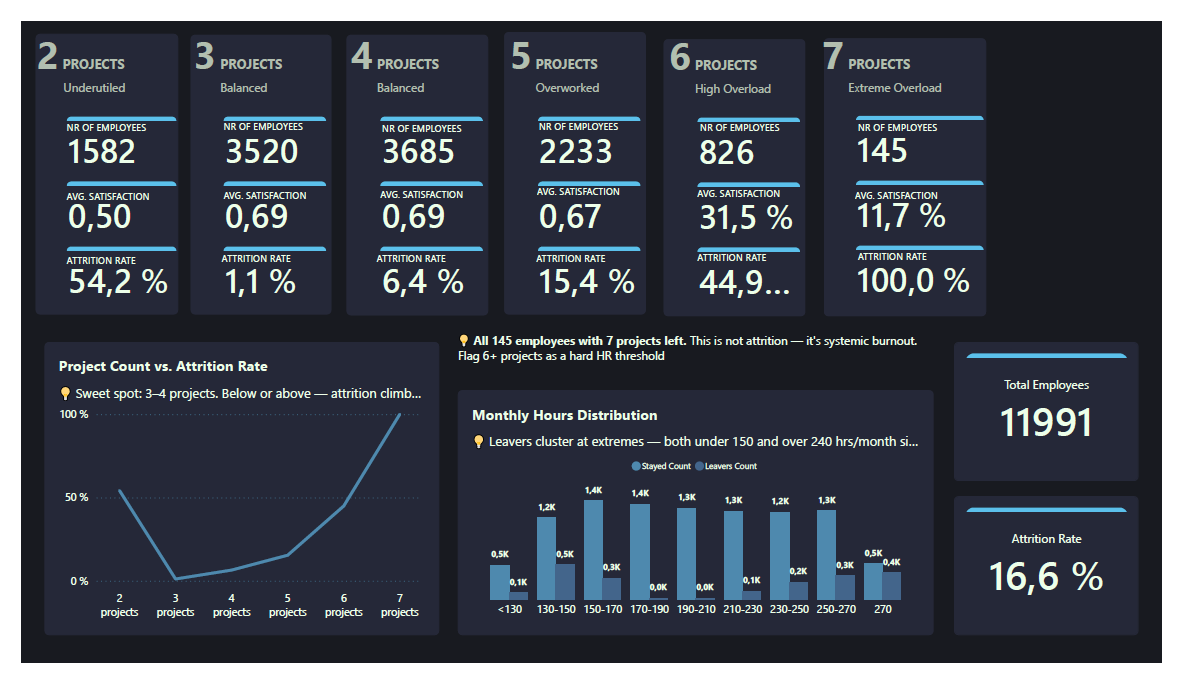

Layout of this report page (visuals, bound fields, positions):
{"tool":"powerbi","page":{"name":"Workload Analysis ","canvas":[1280,720],"ordinal":0},"visuals":[{"type":"group","id":"g1","title":"Group 3","box":[15.5,8.1,1066.7,323.5],"z":0},{"type":"shape","box":[542,12.1,158.8,317.1],"z":0,"group":"g5"},{"type":"shape","box":[15.5,14.5,160,315],"z":0,"group":"g2"},{"type":"shape","box":[189.1,15.8,157.6,313.5],"z":0,"group":"g3"},{"type":"shape","box":[364.9,15.8,158.8,314.7],"z":0,"group":"g4"},{"type":"shape","box":[900.4,19.3,181.8,312.4],"z":0,"group":"g7"},{"type":"shape","box":[720.1,19.5,158.8,311.8],"z":0,"group":"g6"},{"type":"cardVisual","title":"Nr of Employees","fields":{"Data":["salifort_complete_report.Employees 7 Projects Display","salifort_complete_report.Avg Satisfaction 7 Projects","salifort_complete_report.Turnover 7 Projects"]},"box":[935,104.9,145.8,222.5],"z":1000,"group":"g7"},{"type":"cardVisual","title":"Nr of Employees","fields":{"Data":["salifort_complete_report.Employees 5 Projects Display","salifort_complete_report.Avg Satisfaction 5 Projects","salifort_complete_report.Turnover 5 Projects"]},"box":[578.9,105.6,117.5,221.9],"z":1000,"group":"g5"},{"type":"cardVisual","title":"Nr of Employees","fields":{"Data":["salifort_complete_report.Employees 3 Projects","salifort_complete_report.Avg Satisfaction 3 Projects","salifort_complete_report.Turnover 3 Projects"]},"box":[224.7,106,117.5,221.9],"z":1000,"group":"g3"},{"type":"cardVisual","title":"Nr of Employees","fields":{"Data":["salifort_complete_report.Employees 6 Projects Display","salifort_complete_report.Avg Satisfaction 6 Projects","salifort_complete_report.Turnover 6 Projects"]},"box":[757.2,106.4,117.5,221.9],"z":1000,"group":"g6"},{"type":"cardVisual","title":"Nr of Employees","fields":{"Data":["salifort_complete_report.Employees 4 Projects Display","salifort_complete_report.Avg Satisfaction 4 Projects","salifort_complete_report.Turnover 4 Projects"]},"box":[401.6,106.7,117.5,221.9],"z":1000,"group":"g4"},{"type":"cardVisual","title":"Nr of Employees","fields":{"Data":["salifort_complete_report.Employees 2 Projects","salifort_complete_report.Avg Satisfaction 2 Projects","salifort_complete_report.Turnover 2 Projects"]},"box":[50,106.9,125,221],"z":1000,"group":"g2"},{"type":"lineChart","title":"Project Count vs. Attrition Rate","fields":{"Category":["salifort_complete_report.Project Label"],"Y":["salifort_complete_report.Attrition Rate"]},"box":[25.7,360,442.9,328.6],"z":1000},{"type":"group","id":"g2","title":"Group 1","box":[15.5,8.5,179.5,321],"z":2000,"group":"g1"},{"type":"textbox","box":[581.3,108.5,126.2,28.5],"z":2000,"group":"g5"},{"type":"textbox","box":[226.6,108.8,126,28.7],"z":2000,"group":"g3"},{"type":"textbox","box":[761.2,108.9,126.3,28.4],"z":2000,"group":"g6"},{"type":"textbox","box":[938.6,109.1,125.7,28.6],"z":2000,"group":"g7"},{"type":"textbox","box":[51,109.9,144,30],"z":2000,"group":"g2"},{"type":"textbox","box":[404.9,110.1,126,28.7],"z":2000,"group":"g4"},{"type":"textbox","box":[490,348.6,522.9,65.7],"z":2000},{"type":"group","id":"g3","title":"Group 2","box":[189.1,8.5,163.5,320.9],"z":3000,"group":"g1"},{"type":"textbox","box":[578.8,180.7,122.1,28.9],"z":3000,"group":"g5"},{"type":"textbox","box":[758,183.2,121.5,28.5],"z":3000,"group":"g6"},{"type":"textbox","box":[402.8,184.5,121.6,28.4],"z":3000,"group":"g4"},{"type":"textbox","box":[935.3,184.8,121.9,28.1],"z":3000,"group":"g7"},{"type":"textbox","box":[226.6,185.5,122,28.7],"z":3000,"group":"g3"},{"type":"textbox","box":[51,187.9,122,28],"z":3000,"group":"g2"},{"type":"clusteredColumnChart","title":"Monthly Hours Distribution","fields":{"Category":["salifort_complete_report.Hours Bucket"],"Y":["salifort_complete_report.Stayed Count","salifort_complete_report.Leavers Count"]},"box":[490,414.3,534.3,274.3],"z":3000},{"type":"group","id":"g4","title":"Group 2","box":[364.9,8.3,166,322.2],"z":4000,"group":"g1"},{"type":"textbox","box":[938.1,254.3,126.2,28.1],"z":4000,"group":"g7"},{"type":"textbox","box":[758,254.7,126.2,28.5],"z":4000,"group":"g6"},{"type":"textbox","box":[578.3,256.5,126.3,28.4],"z":4000,"group":"g5"},{"type":"textbox","box":[399.1,256.6,126.8,27.9],"z":4000,"group":"g4"},{"type":"textbox","box":[224.6,256.8,126.7,28],"z":4000,"group":"g3"},{"type":"textbox","box":[51,258.9,126,28],"z":4000,"group":"g2"},{"type":"cardVisual","fields":{"Data":["salifort_complete_report.Attrition Rate"]},"box":[1047.1,532.9,207.1,155.7],"z":4000},{"type":"group","id":"g5","title":"Group 2","box":[542,8.1,165.4,321.1],"z":5000,"group":"g1"},{"type":"textbox","box":[547.7,8.1,145.6,84.4],"z":5000,"group":"g5"},{"type":"textbox","box":[369.9,8.3,148.9,85.6],"z":5000,"group":"g4"},{"type":"textbox","box":[898.3,8.3,163,84],"z":5000,"group":"g7"},{"type":"textbox","box":[17.2,8.5,124.4,84.4],"z":5000,"group":"g2"},{"type":"textbox","box":[193.5,8.5,145.6,84.4],"z":5000,"group":"g3"},{"type":"textbox","box":[725.9,8.9,145.6,84.4],"z":5000,"group":"g6"},{"type":"cardVisual","fields":{"Data":["salifort_complete_report.Total Employees"]},"box":[1047.1,360,207.1,155.7],"z":5000},{"type":"group","id":"g6","title":"Group 2","box":[720.1,8.9,167.4,322.4],"z":6000,"group":"g1"},{"type":"group","id":"g7","title":"Group 2","box":[898.3,8.3,183.9,323.4],"z":7000,"group":"g1"}]}

Visuals, with their boxes in screenshot pixels (x1, y1, x2, y2), scaled from the page's 1280x720 canvas onto the 1183x683 screenshot:
"Group 3" group: [14, 8, 1000, 315]
shape: [501, 11, 648, 312]
shape: [14, 14, 162, 313]
shape: [175, 15, 320, 312]
shape: [337, 15, 484, 314]
shape: [832, 18, 1000, 315]
shape: [666, 18, 812, 314]
"Nr of Employees" cardVisual: [864, 100, 999, 311]
"Nr of Employees" cardVisual: [535, 100, 644, 311]
"Nr of Employees" cardVisual: [208, 101, 316, 311]
"Nr of Employees" cardVisual: [700, 101, 808, 311]
"Nr of Employees" cardVisual: [371, 101, 480, 312]
"Nr of Employees" cardVisual: [46, 101, 162, 311]
"Project Count vs. Attrition Rate" lineChart: [24, 342, 433, 653]
"Group 1" group: [14, 8, 180, 313]
textbox: [537, 103, 654, 130]
textbox: [209, 103, 326, 130]
textbox: [704, 103, 820, 130]
textbox: [867, 103, 984, 131]
textbox: [47, 104, 180, 133]
textbox: [374, 104, 491, 132]
textbox: [453, 331, 936, 393]
"Group 2" group: [175, 8, 326, 312]
textbox: [535, 171, 648, 199]
textbox: [701, 174, 813, 201]
textbox: [372, 175, 485, 202]
textbox: [864, 175, 977, 202]
textbox: [209, 176, 322, 203]
textbox: [47, 178, 160, 205]
"Monthly Hours Distribution" clusteredColumnChart: [453, 393, 947, 653]
"Group 2" group: [337, 8, 491, 314]
textbox: [867, 241, 984, 268]
textbox: [701, 242, 817, 269]
textbox: [534, 243, 651, 270]
textbox: [369, 243, 486, 270]
textbox: [208, 244, 325, 270]
textbox: [47, 246, 164, 272]
cardVisual - salifort_complete_report.Attrition Rate: [968, 506, 1159, 653]
"Group 2" group: [501, 8, 654, 312]
textbox: [506, 8, 641, 88]
textbox: [342, 8, 479, 89]
textbox: [830, 8, 981, 88]
textbox: [16, 8, 131, 88]
textbox: [179, 8, 313, 88]
textbox: [671, 8, 805, 89]
cardVisual - salifort_complete_report.Total Employees: [968, 342, 1159, 489]
"Group 2" group: [666, 8, 820, 314]
"Group 2" group: [830, 8, 1000, 315]
